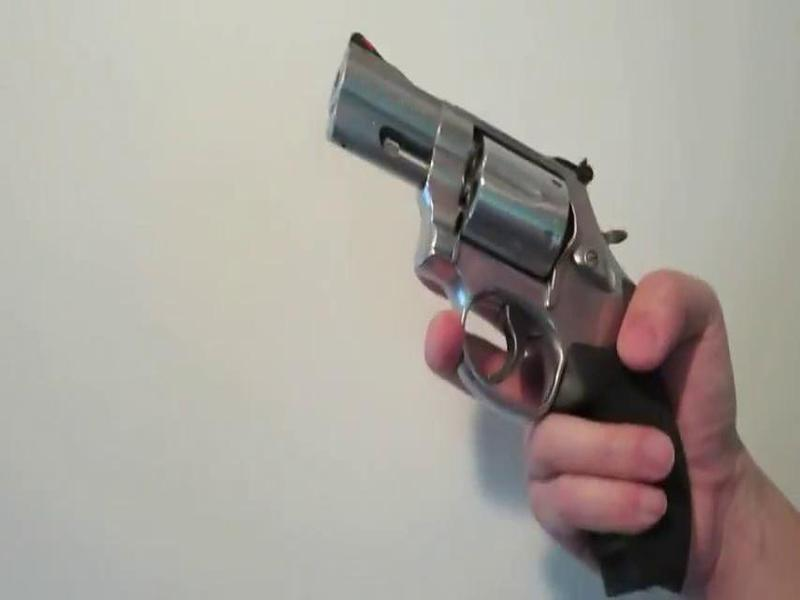Revolver: (309, 19, 724, 589)
